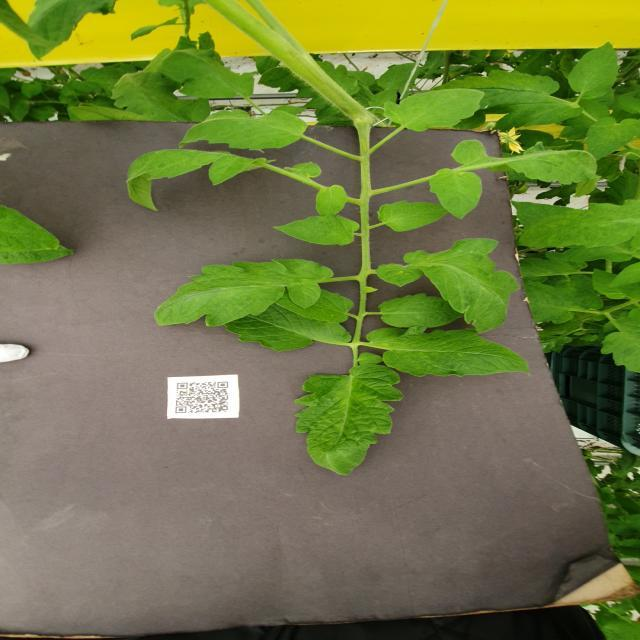Tomato healthy leaf: (140, 256, 334, 330), (374, 237, 522, 334), (288, 363, 401, 477), (363, 324, 534, 380), (123, 148, 264, 212), (432, 72, 585, 130), (516, 199, 640, 249), (223, 306, 349, 353), (175, 108, 309, 152), (25, 0, 118, 62), (383, 86, 488, 134), (565, 40, 619, 100), (380, 292, 462, 330), (268, 214, 358, 248), (428, 168, 484, 222), (376, 197, 448, 234), (586, 115, 640, 161), (314, 184, 348, 218)
